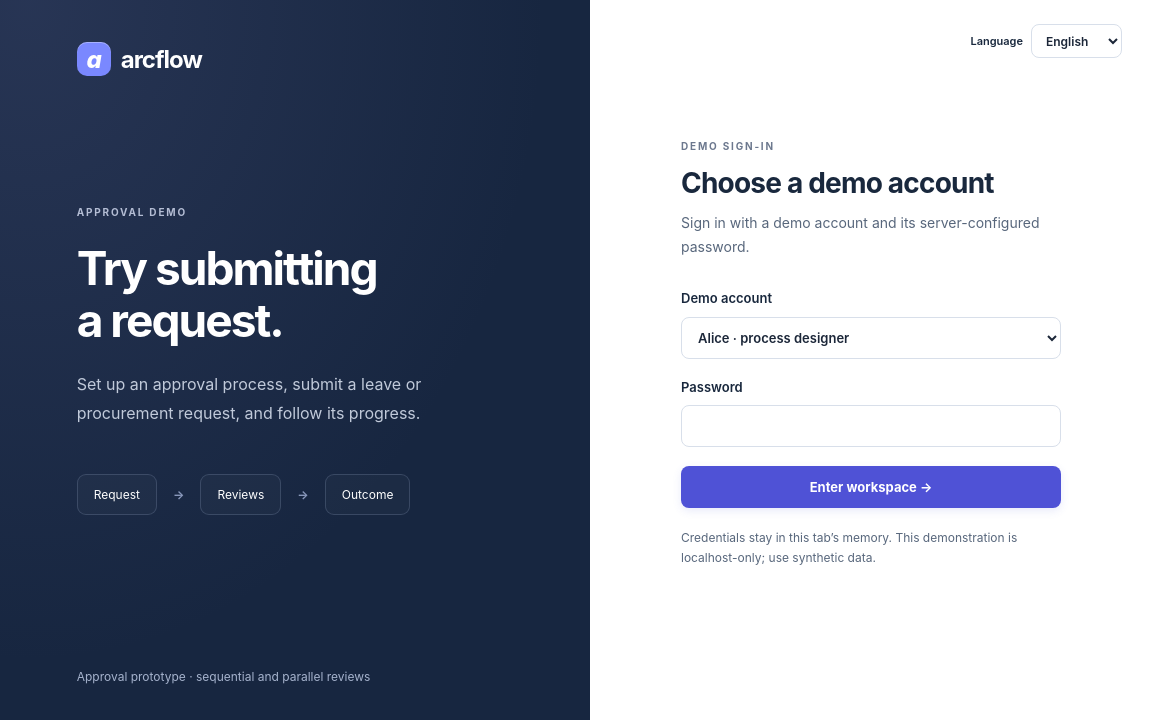
Scenario: explicit bilingual procurement authoring › fails closed before rendering a malformed request collection [null]
Type "synthetic-test-only" into the password field labelled "Password". click: (871,426)
box: [681,405,1061,447]
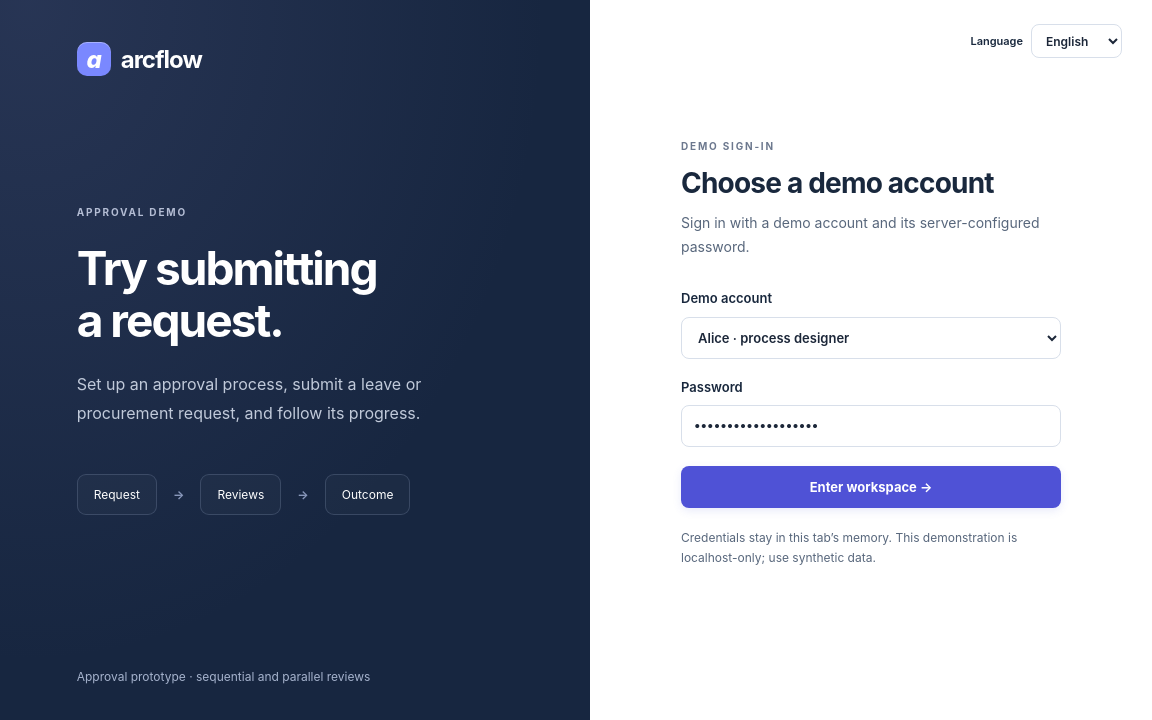
Submit the form with class "login-form", box [681,139,1061,581]
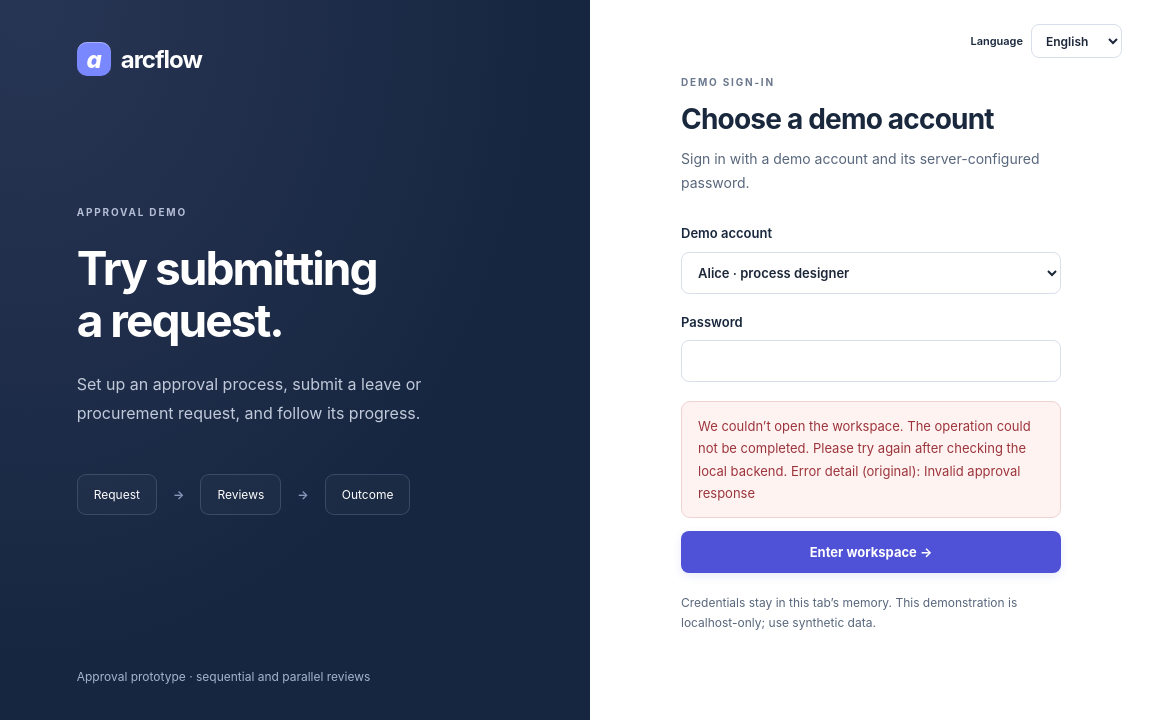
Expected: the message is shown, [681,401,1061,518]
